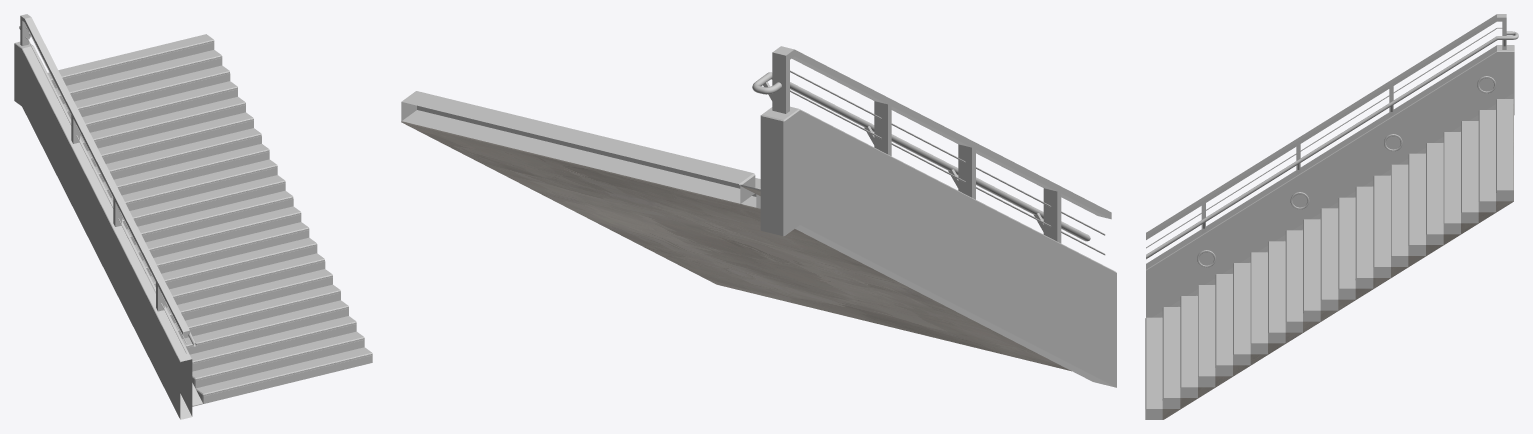
File: MESH_StairsL_Second.fbx
The picture shows the model from 3 angles, left to right: view 1: azimuth 30°, elevation 25°; view 2: azimuth 150°, elevation 25°; view 3: azimuth 270°, elevation 25°; orthographic projection. The views are drawn at different scales.
Visible parts, largest first — view 1: StairsL.001, ConcreteBaseL_Second, HandleL_Second; view 2: ConcreteBaseL_Second, StairsL.001, HandleL_Second; view 3: StairsL.001, ConcreteBaseL_Second, HandleL_Second, LampsL_Second.
Part boxes in pixels (x1,y1,x2,y2): StairsL.001: (47, 34, 372, 406); ConcreteBaseL_Second: (14, 41, 192, 419); HandleL_Second: (19, 14, 196, 353); ConcreteBaseL_Second: (760, 106, 1116, 387); StairsL.001: (401, 91, 1071, 371); HandleL_Second: (752, 46, 1111, 255); StairsL.001: (1145, 93, 1513, 419); ConcreteBaseL_Second: (1146, 45, 1514, 317); HandleL_Second: (1146, 14, 1518, 259); LampsL_Second: (1197, 76, 1495, 267).
Bounding box in the file's own units: 400 × 567 × 608.
